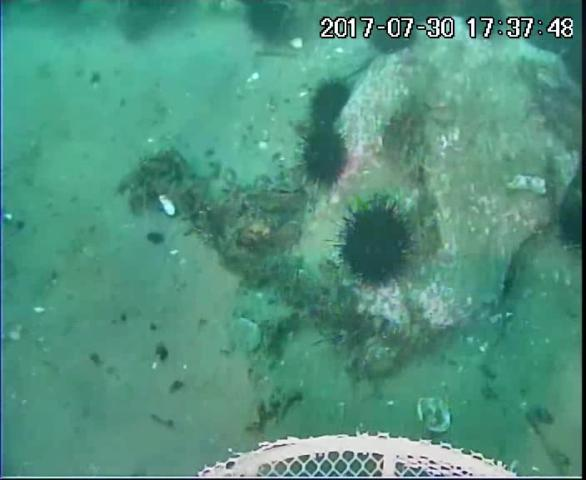echinus: (342, 204, 417, 288), (298, 126, 353, 190), (309, 80, 353, 129), (369, 15, 417, 59), (243, 3, 292, 45), (460, 1, 507, 39), (557, 199, 586, 253)
